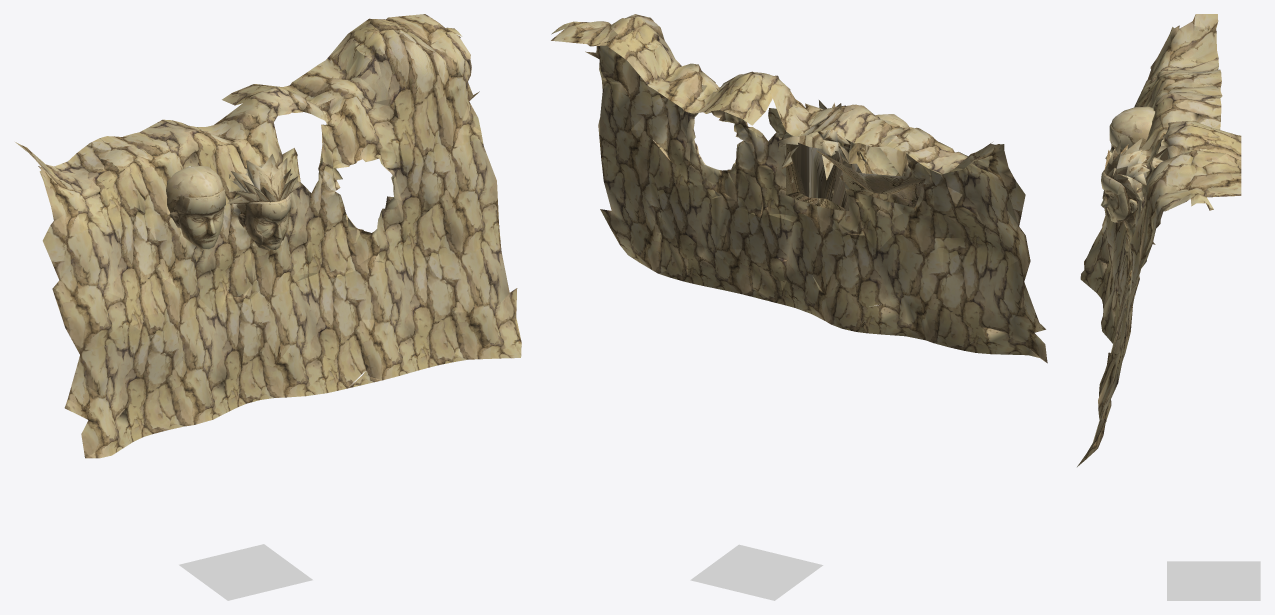
The picture shows the model from 3 angles, left to right: view 1: azimuth 30°, elevation 25°; view 2: azimuth 150°, elevation 25°; view 3: azimuth 270°, elevation 25°; orthographic projection. The views are drawn at different scales.
Parts seen in each view (by area): view 1: sa00zrock01_001, Quad_Village_Plumbing, sa00zsec_001, sa00zfri_001; view 2: sa00zrock01_001, sa00zfri_001, Quad_Village_Plumbing, sa00zsec_001; view 3: sa00zrock01_001, Quad_Village_Plumbing, sa00zsec_001, sa00zfri_001.
Boxes of the visible parts, x1,y1,x2,y2 form: sa00zrock01_001: [15, 14, 521, 458]; Quad_Village_Plumbing: [179, 544, 312, 600]; sa00zsec_001: [227, 154, 298, 250]; sa00zfri_001: [166, 166, 269, 251]; sa00zrock01_001: [551, 14, 1047, 363]; sa00zfri_001: [786, 114, 925, 210]; Quad_Village_Plumbing: [690, 544, 823, 600]; sa00zsec_001: [776, 100, 850, 194]; sa00zrock01_001: [1077, 14, 1241, 466]; Quad_Village_Plumbing: [1167, 561, 1260, 600]; sa00zsec_001: [1101, 138, 1168, 222]; sa00zfri_001: [1105, 106, 1168, 229].
Size of the model in its own units: 277 by 304 by 103.
6 materials, 6 textured.
